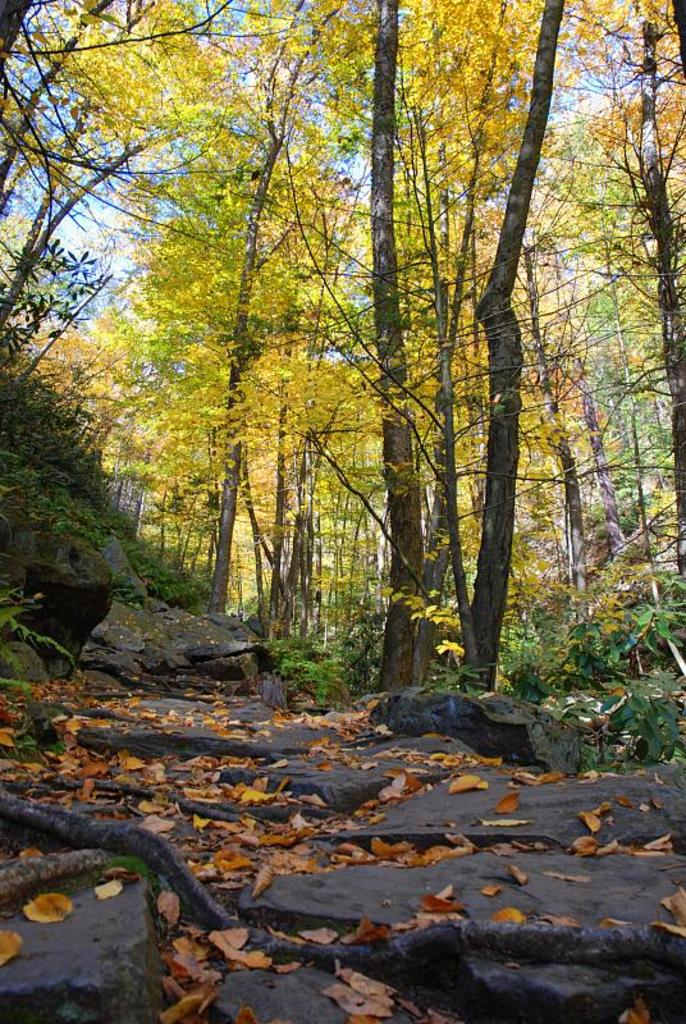Tree: (0, 0, 684, 706)
